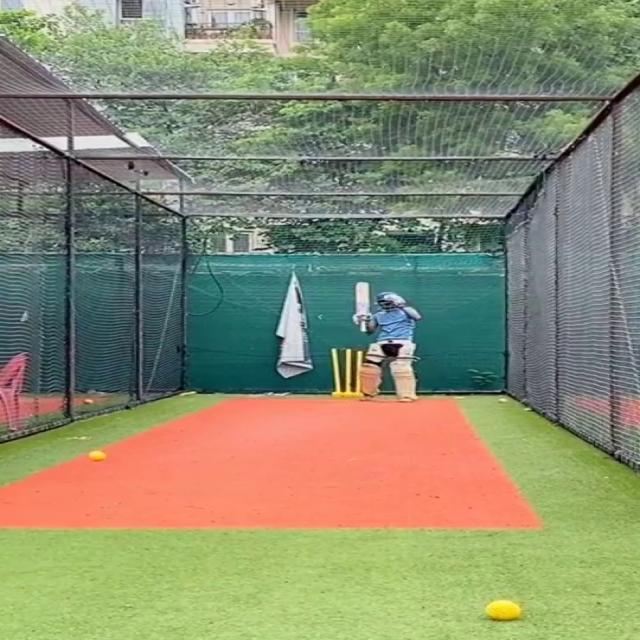ball: (479, 598, 526, 621), (82, 447, 106, 462), (80, 398, 94, 405), (496, 397, 509, 404)
stump: (328, 346, 364, 396)
